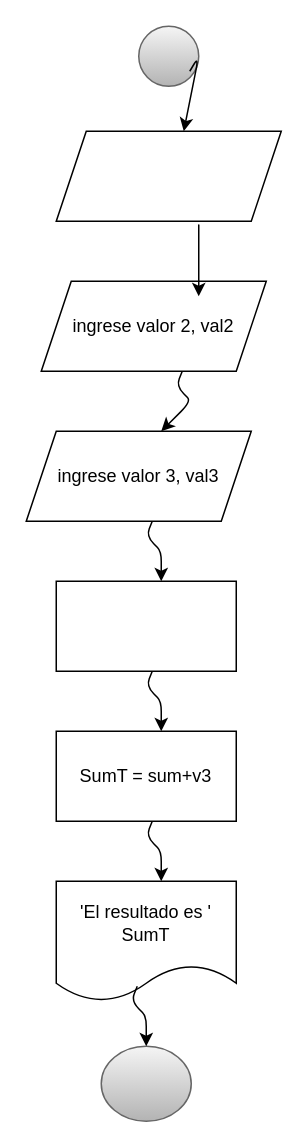
Image size: 308x1148. Some labels were removed from this diagram. The shapes that lost their labels are listed below. From the top down, each one's centre as x and y in pixels, then its label:
At [168,175]: "ingrese valor 1,val1".
At [145,625]: "sum = v1+v2".
